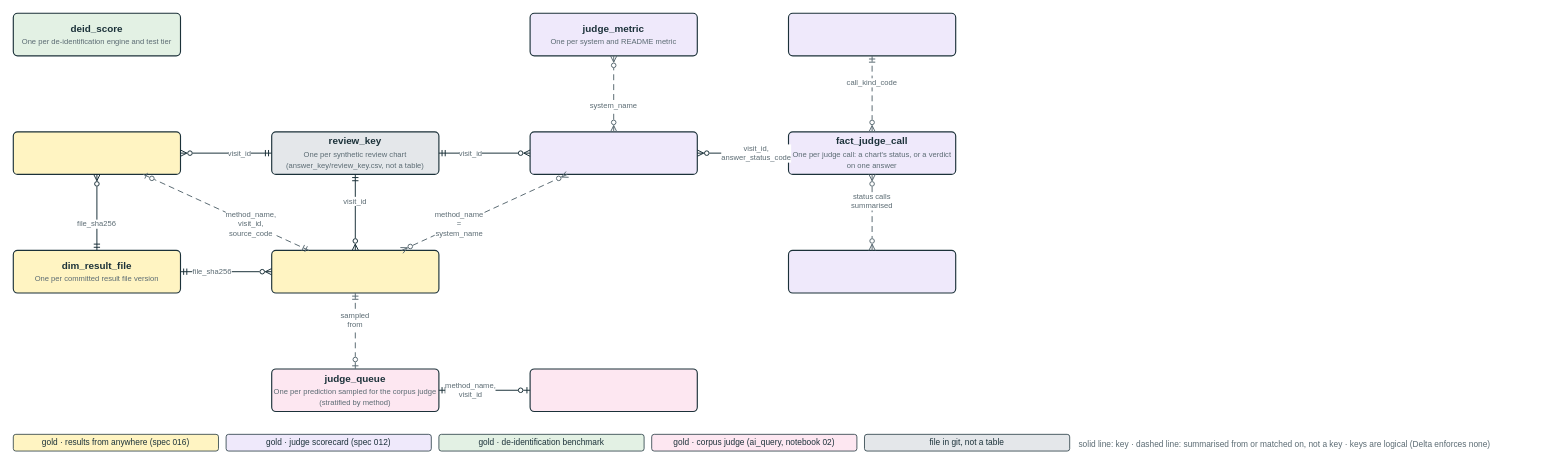
The diagram is 1562 pixels wide and 465 high, and some of its shapes have lost their labels. The shapes that lost their labels are listed below. From the top down, each one's centre as x and y in pixels, then its label:
At point (872, 34): "judge_cost One per call type: status · verdict · all".
At point (96, 153): "fact_llm_call One per LLM reader call on a chart".
At point (613, 153): "fact_chart_answer One per system and review chart (README leaderboard systems)".
At point (355, 271): "fact_prediction One per method and chart, per file version or reader run".
At point (872, 271): "judge_agreement One per slice: the judge's status against the truth".
At point (613, 390): "fact_corpus_judge_call One per corpus judge call (ai_query)".
